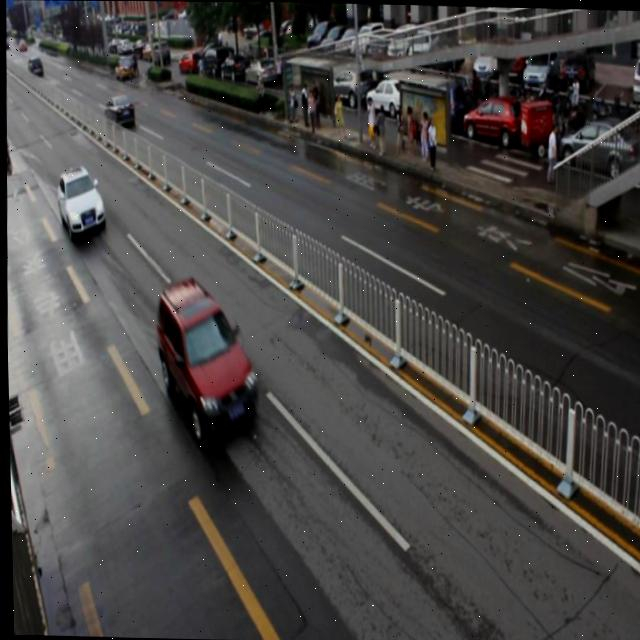car: (150, 276, 255, 440), (55, 166, 104, 238), (102, 95, 135, 126)
